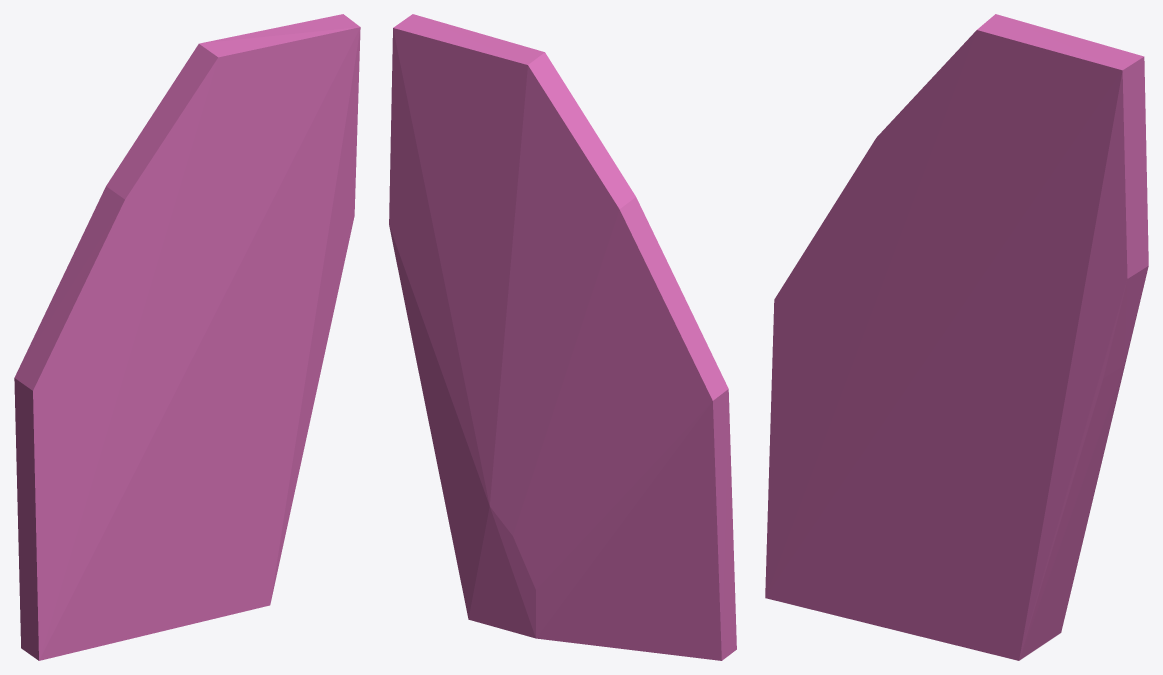
The model's file is mouth_cup036.obj.
The picture shows the model from 3 angles, left to right: view 1: azimuth 30°, elevation 25°; view 2: azimuth 150°, elevation 25°; view 3: azimuth 330°, elevation 25°; orthographic projection. The views are drawn at different scales.
Parts seen in each view (by area): view 1: mouth_cup036; view 2: mouth_cup036; view 3: mouth_cup036.
Part boxes in pixels (x1,y1,x2,y2): mouth_cup036: (14, 14, 360, 660); mouth_cup036: (389, 14, 736, 660); mouth_cup036: (765, 14, 1148, 660).
Size of the model in its own units: 0.0845 by 0.138 by 0.018.
